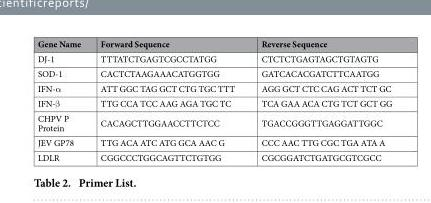table: (36, 37, 391, 163)
table column: (90, 37, 247, 163), (247, 37, 391, 163), (36, 37, 90, 163)
table column header: (36, 37, 391, 50)
table row: (36, 110, 391, 134), (36, 50, 391, 65), (36, 65, 391, 80), (36, 80, 391, 95), (36, 95, 391, 110), (36, 134, 391, 149), (36, 149, 391, 163), (36, 37, 391, 50)
